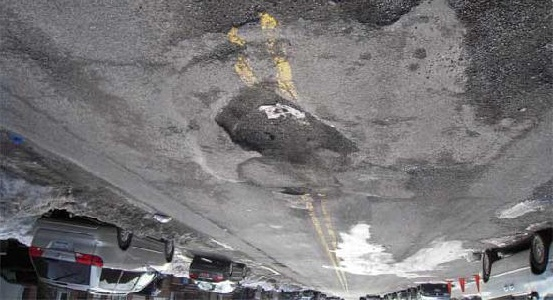pothole: (279, 184, 304, 199)
